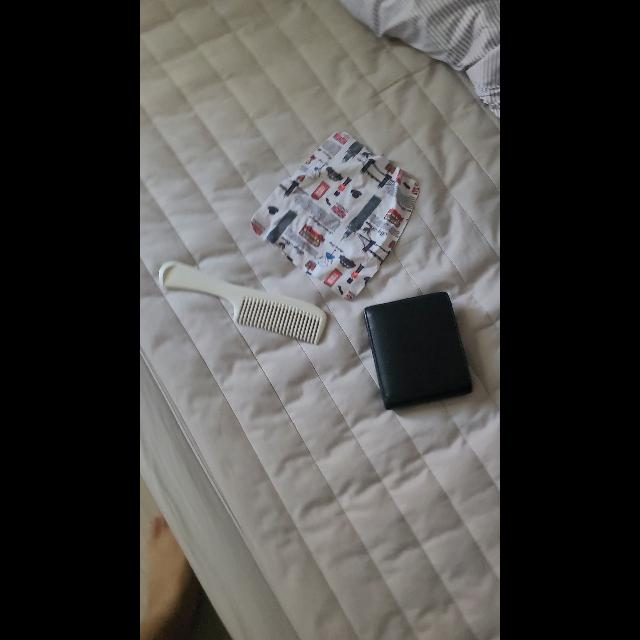COMB: (158, 260, 326, 344)
Glasses cleaning cloth: (250, 130, 420, 300)
WALLET: (363, 290, 472, 410)
